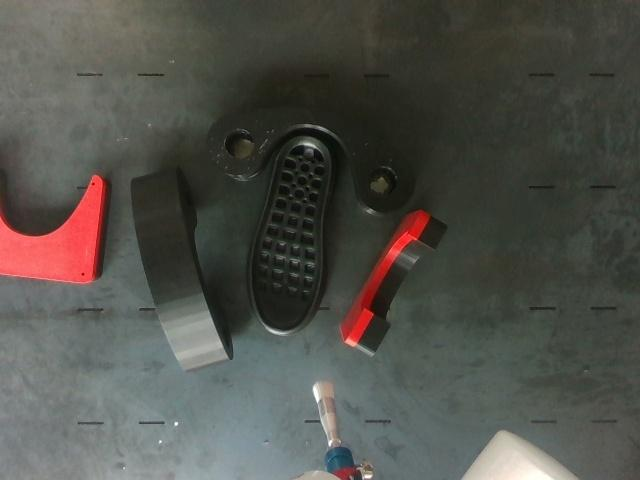shoes: (251, 135, 331, 331)
